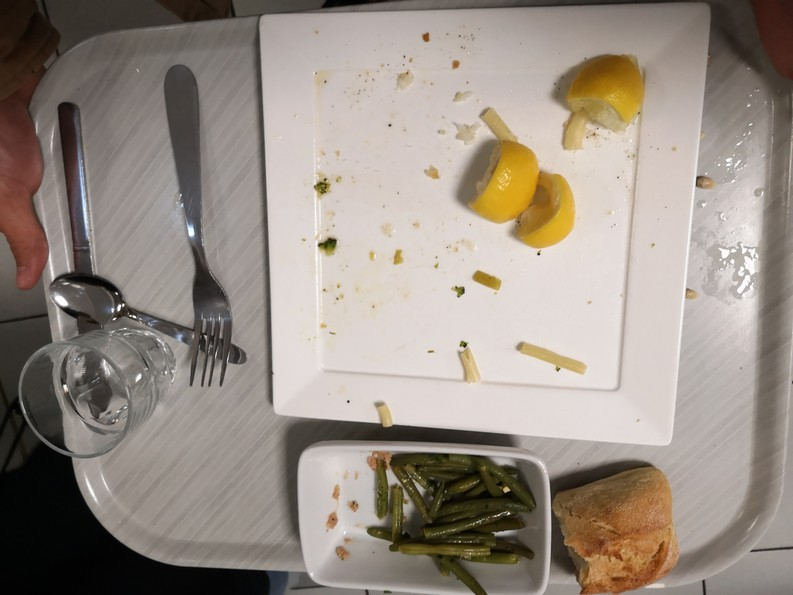cup: (15, 325, 197, 454)
cutlery: (161, 49, 237, 392), (38, 263, 251, 368), (65, 93, 92, 419)
orga: (366, 454, 542, 587), (555, 454, 701, 594), (478, 134, 581, 251), (555, 49, 654, 131)
